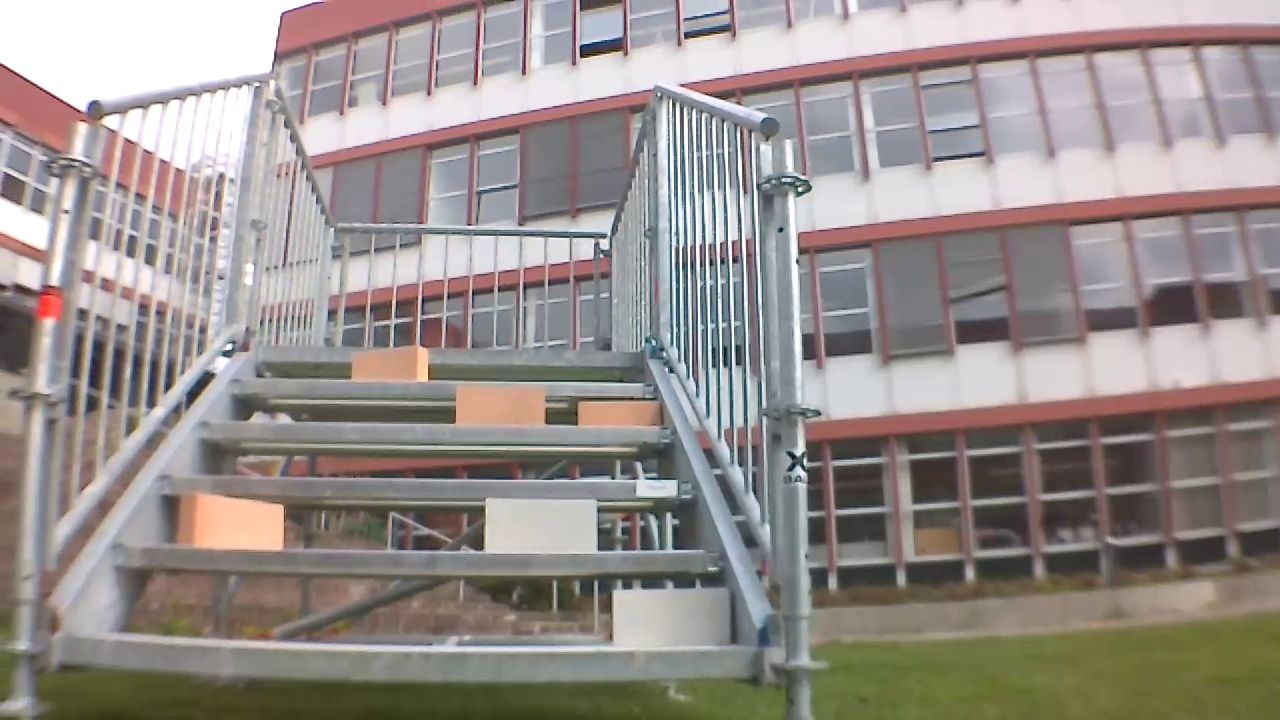brick: (613, 587, 728, 644), (178, 492, 282, 549), (485, 500, 596, 551), (457, 384, 542, 424), (350, 345, 427, 380), (579, 402, 659, 425)
edge: (64, 635, 758, 676), (114, 550, 727, 576), (160, 476, 694, 500), (197, 421, 675, 444), (258, 344, 641, 367), (231, 378, 655, 398)
stairs: (3, 71, 827, 716)
steps: (63, 341, 768, 683)
